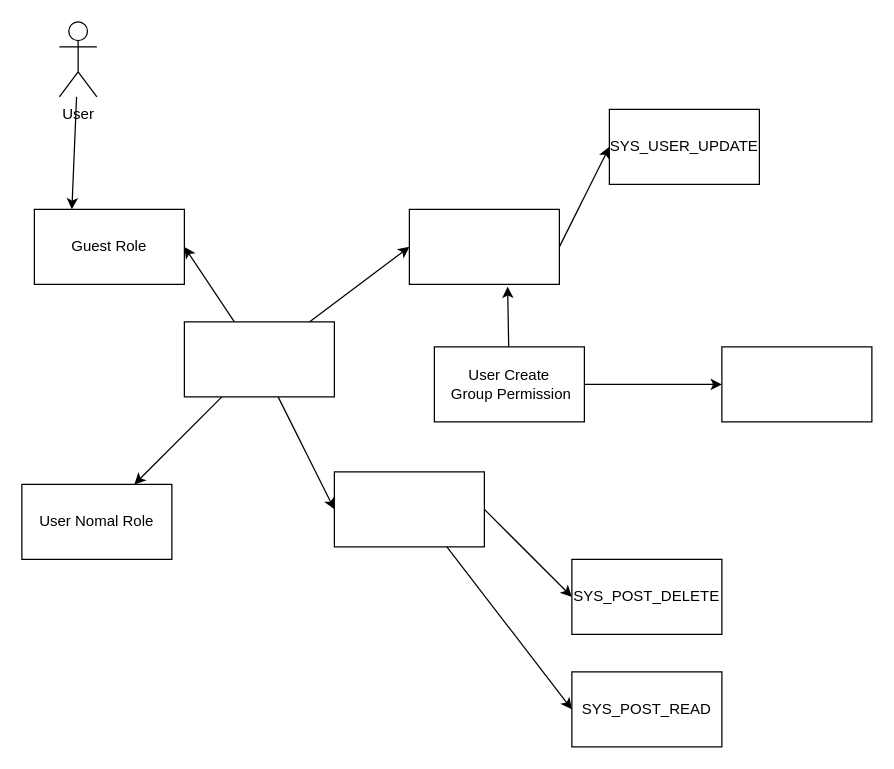
The diagram is 894 pixels wide and 769 high, and some of its shapes have lost their labels. Here are the shapes that lost their labels. From the top down, the box of each, then its label:
(408, 208, 559, 284): User Group Permission
(183, 321, 334, 397): User Group Role
(721, 346, 872, 422): SYS_USER_CREATE
(333, 471, 484, 547): Post Group Permission
